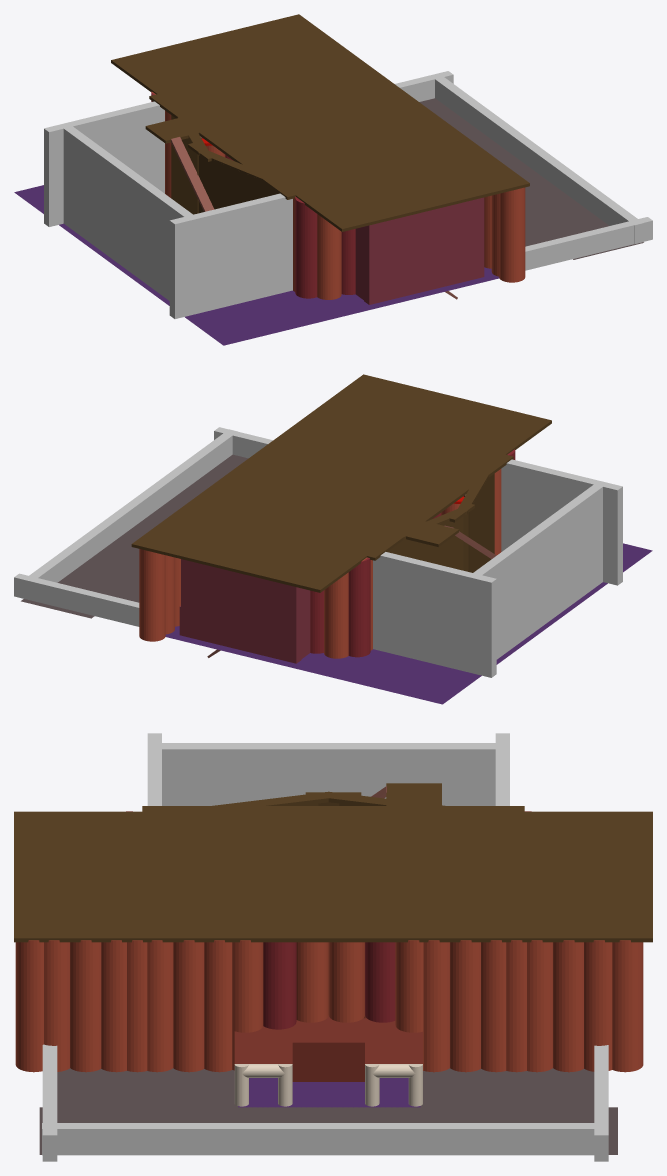
Rendered from theater3.dae.
3 renders of one model, top to bottom at view 1: azimuth 30°, elevation 25°; view 2: azimuth 150°, elevation 25°; view 3: azimuth 270°, elevation 25°, orthographic. The views are drawn at different scales.
Parts seen in each view (by area): view 1: roof_004, roof_004_209, roof_004_208, roof_004_177, roof_004_014, roof_004_013, roof_004_051, roof_004_022, roof_004_010, roof_004_035, roof_004_222, roof_004_055 (+11 smaller); view 2: roof_004, roof_004_013, roof_004_208, roof_004_183, roof_004_014, roof_004_209, roof_004_051, roof_004_022, roof_004_052, roof_004_031, roof_004_149, roof_004_048 (+10 smaller); view 3: roof_004, roof_004_208, roof_004_051, roof_004_022, roof_004_020, roof_004_021, roof_004_039, roof_004_037, roof_004_031, roof_004_025, roof_004_029, roof_004_019 (+29 smaller).
Part boxes in pixels (box(x1,y1,x2,y2)): roof_004: box(111, 14, 529, 231); roof_004_209: box(169, 193, 292, 318); roof_004_208: box(63, 126, 195, 300); roof_004_177: box(364, 197, 484, 304); roof_004_014: box(14, 185, 499, 345); roof_004_013: box(44, 101, 164, 226); roof_004_051: box(433, 75, 643, 244); roof_004_022: box(419, 98, 643, 259); roof_004_010: box(525, 217, 652, 270); roof_004_035: box(499, 187, 525, 282); roof_004_222: box(204, 159, 278, 209); roof_004_055: box(295, 197, 317, 298); roof_004: box(131, 374, 551, 592); roof_004_013: box(373, 552, 496, 677); roof_004_208: box(471, 484, 605, 659); roof_004_183: box(181, 559, 301, 663); roof_004_014: box(165, 543, 652, 704); roof_004_209: box(501, 459, 622, 585); roof_004_051: box(27, 429, 237, 582); roof_004_022: box(21, 454, 248, 618); roof_004_052: box(14, 573, 139, 626); roof_004_031: box(139, 549, 165, 641); roof_004_149: box(348, 557, 370, 657); roof_004_048: box(324, 572, 348, 658); roof_004: box(14, 811, 652, 942); roof_004_208: box(155, 743, 495, 805); roof_004_051: box(42, 1123, 600, 1155); roof_004_022: box(39, 1107, 617, 1154); roof_004_020: box(57, 1068, 237, 1114); roof_004_021: box(419, 1068, 594, 1113); roof_004_039: box(173, 940, 204, 1072); roof_004_037: box(70, 940, 101, 1072); roof_004_031: box(612, 940, 643, 1072); roof_004_025: box(450, 940, 480, 1072); roof_004_029: box(553, 940, 583, 1072); roof_004_019: box(238, 1078, 420, 1107).
Size of the model in its own units: 97.01 by 88.16 by 24.86.
